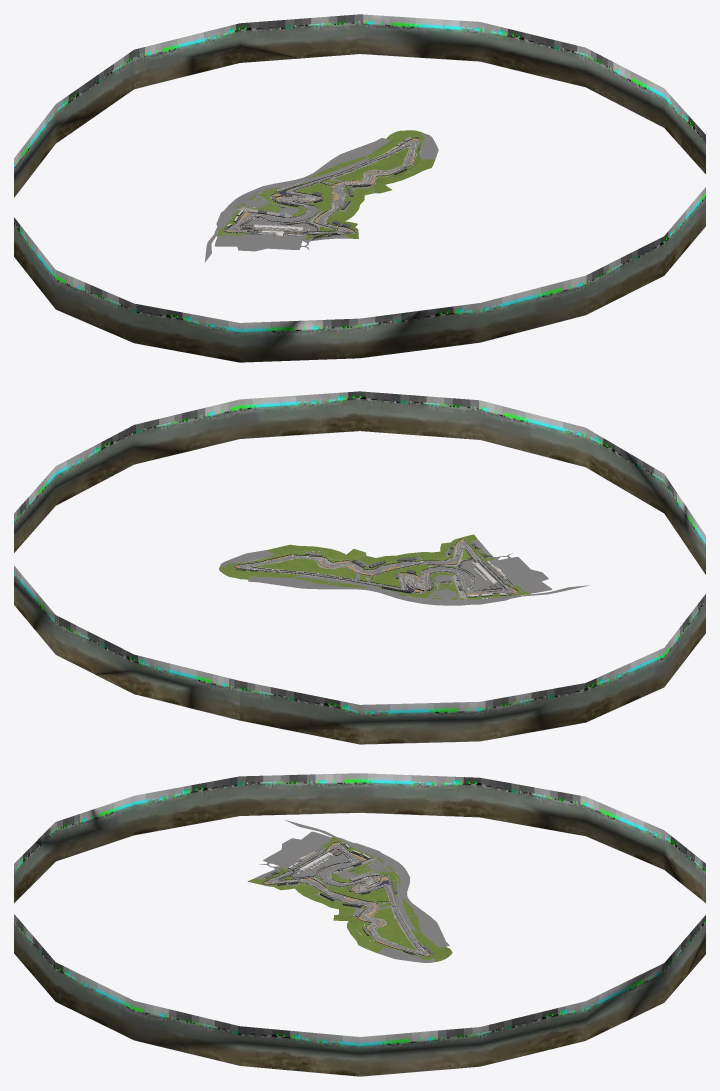
File: austin.glb
3 views of the same model, one above another, from view 1: azimuth 30°, elevation 25°; view 2: azimuth 150°, elevation 25°; view 3: azimuth 270°, elevation 25° (orthographic).
Visible parts, largest first — view 1: vdc_circuit_americas; view 2: vdc_circuit_americas; view 3: vdc_circuit_americas.
Boxes of the visible parts, x1,y1,x2,y2 form: vdc_circuit_americas: [14, 14, 705, 362]; vdc_circuit_americas: [14, 391, 705, 744]; vdc_circuit_americas: [14, 773, 705, 1076].
Bounding box in the file's own units: 4970 × 583 × 4895.
Materials: 140 (135 with a texture image).
